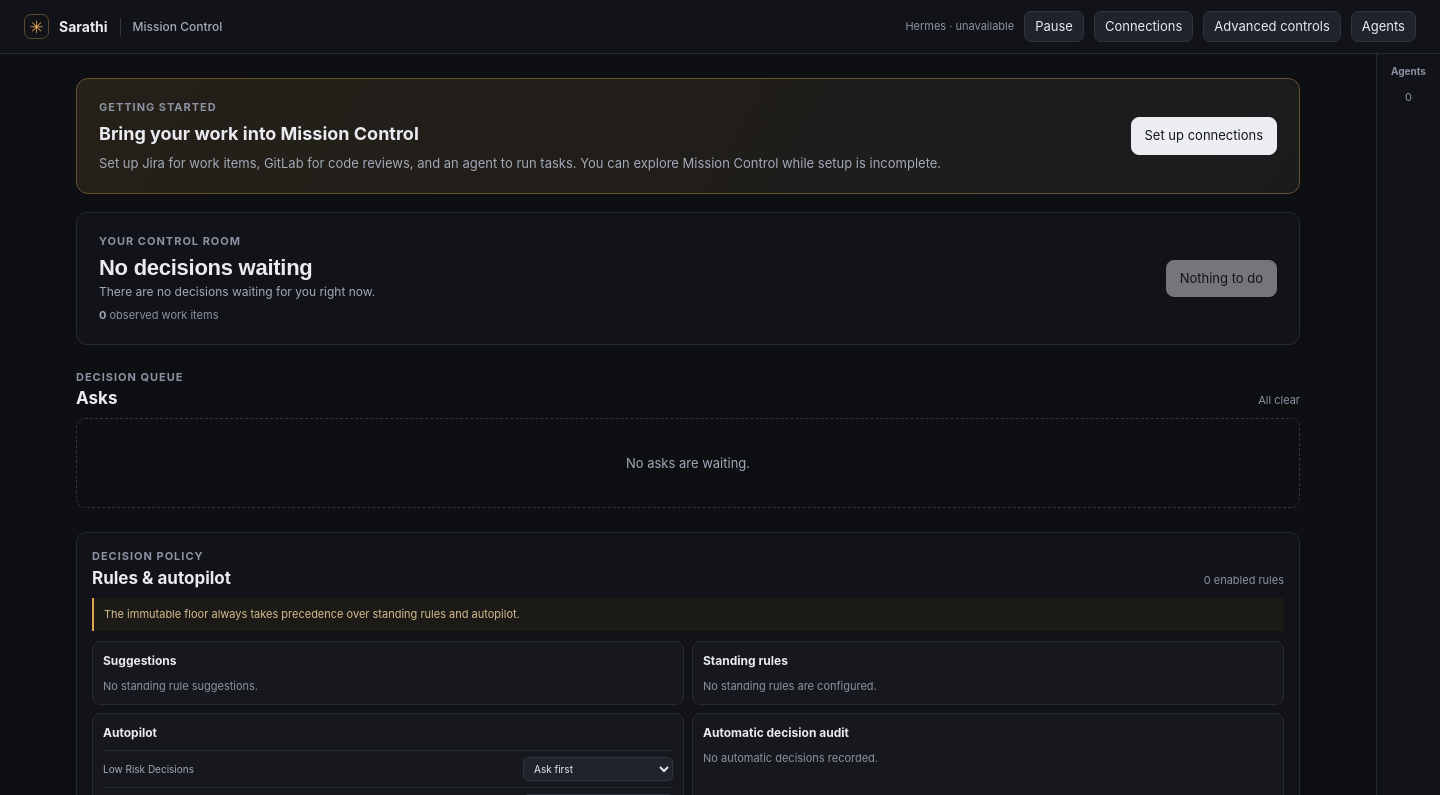
Mission Control shell › shows the asks-first control room for configured installations
The image size is (1440, 795).
Expected: the element "Asks" is shown, [76, 368, 1300, 508]
Click the button "Advanced controls": (1272, 27) [1203, 11, 1341, 42]
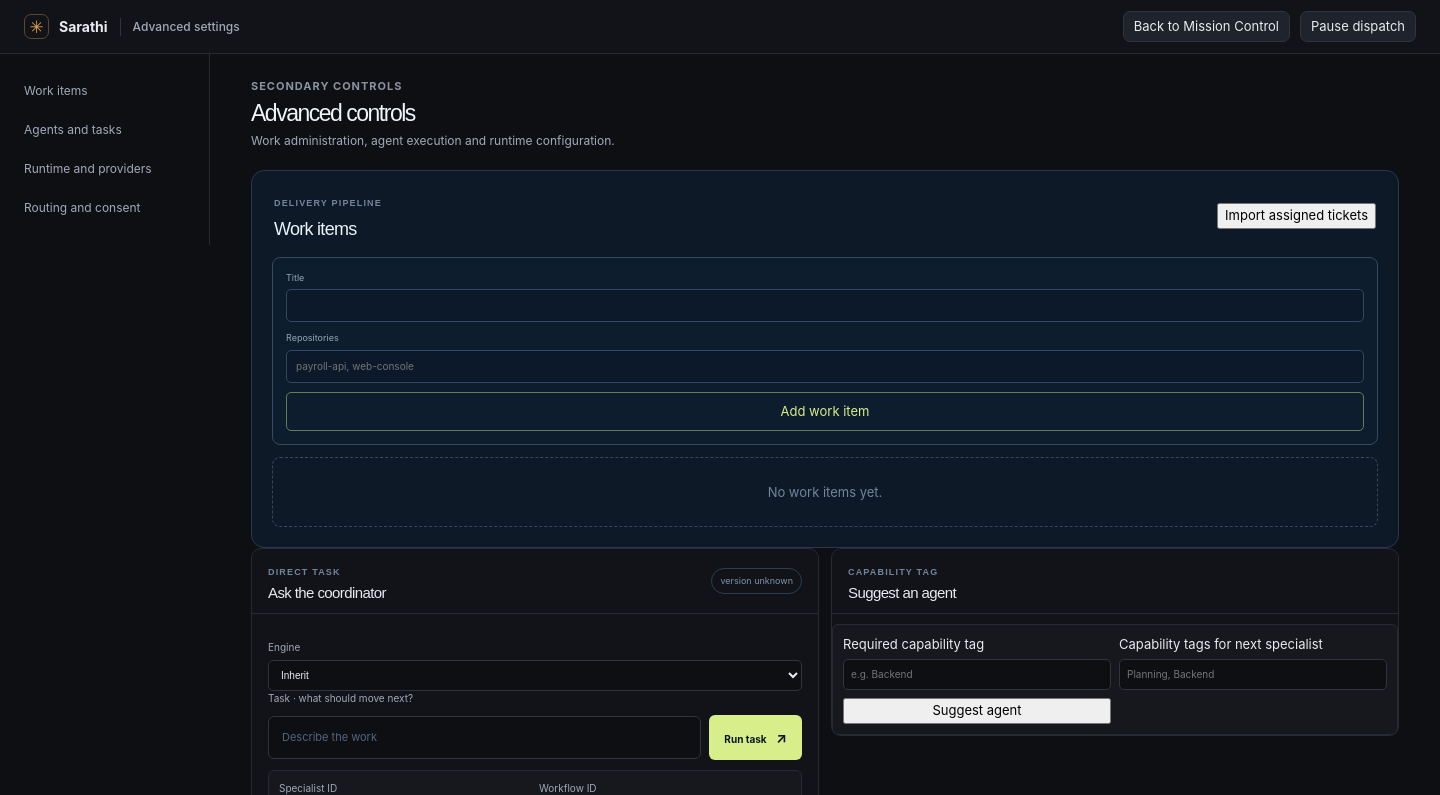
Expected: the field labelled "Task · what should move next?" is shown, [268, 716, 701, 758]
